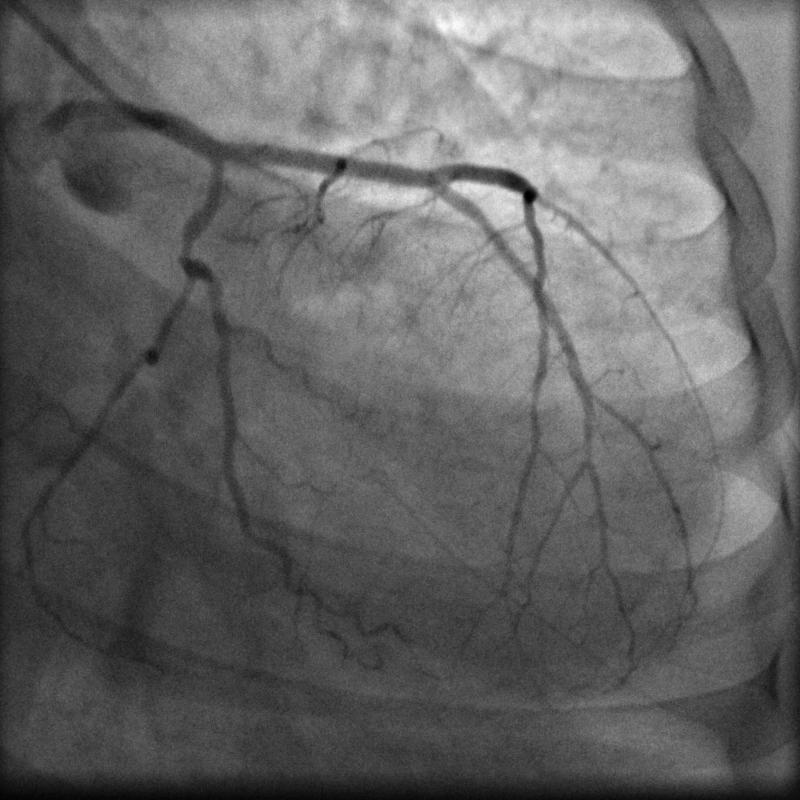Stenosis: (171, 224, 208, 263)
